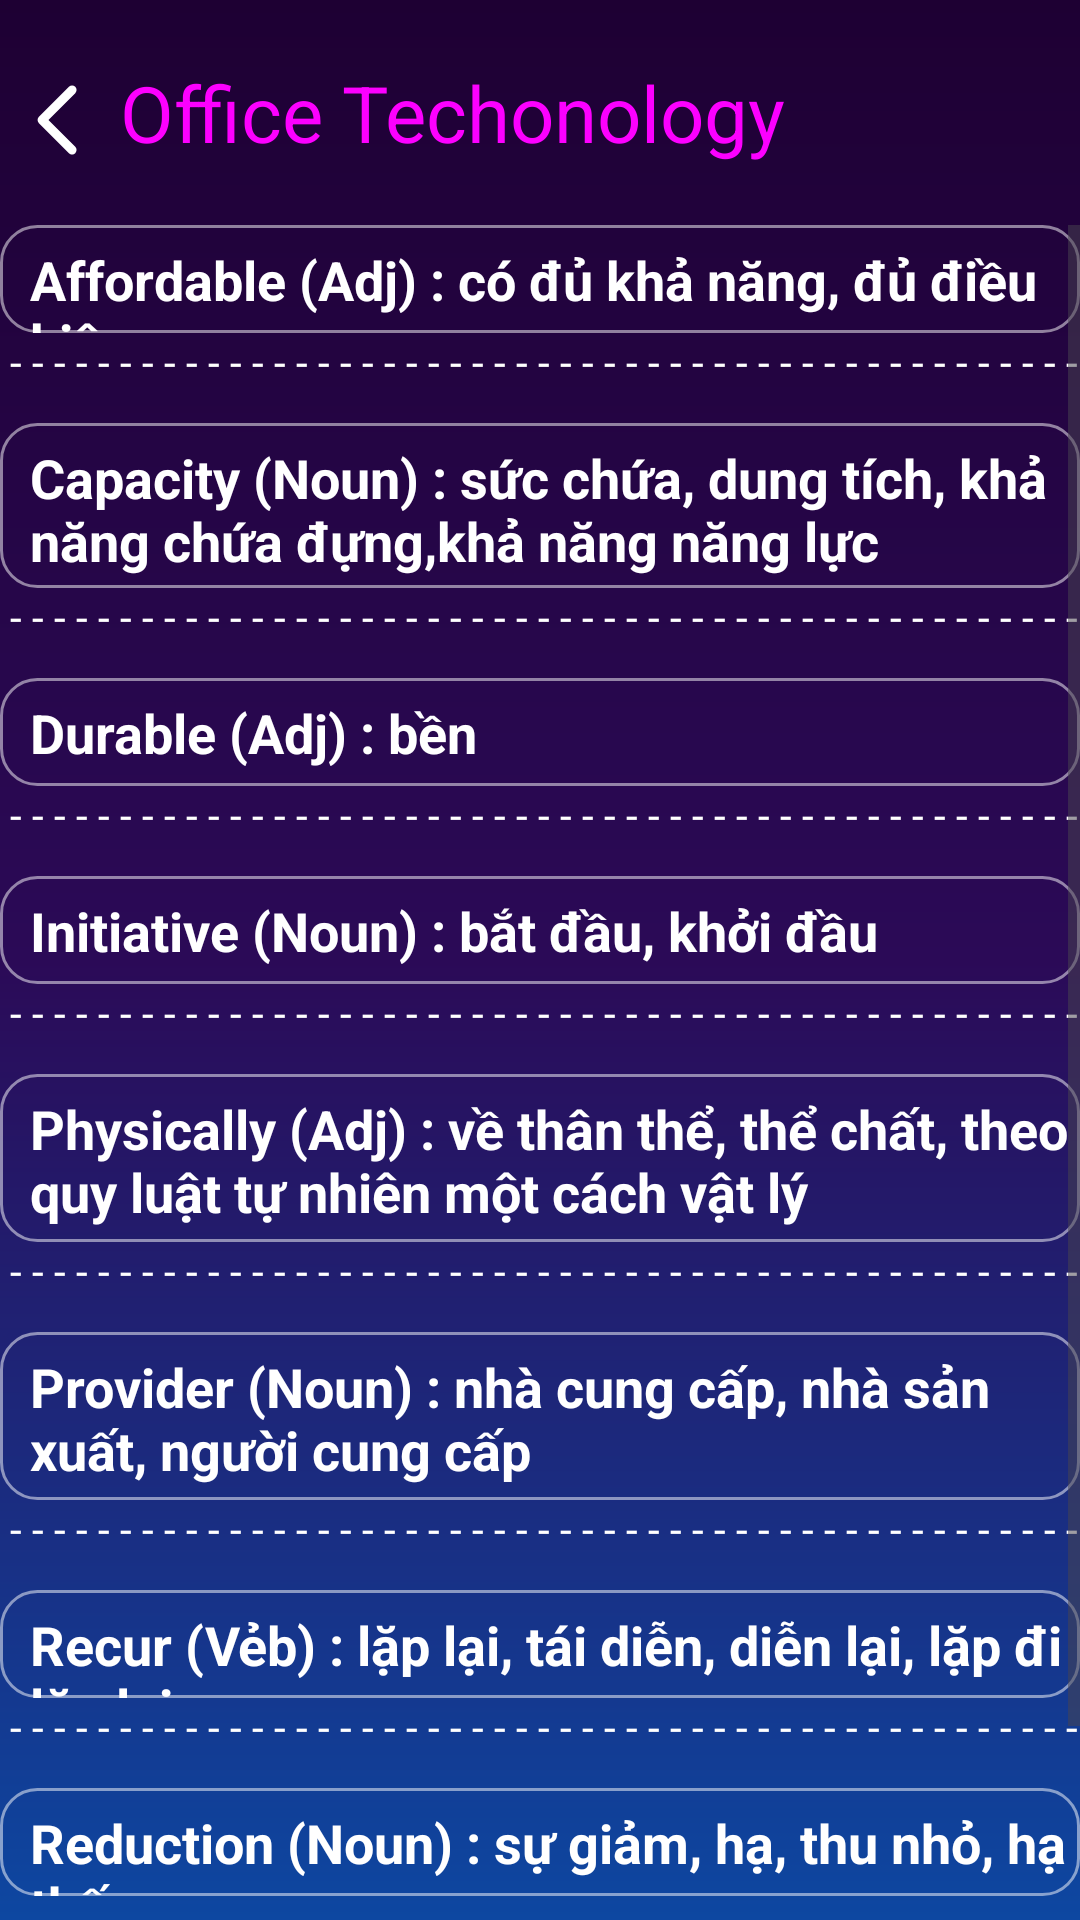

Point at icon controls on the screen. Image size 1080px×1920px, points as [x,y].
angle left full: [57,120]
